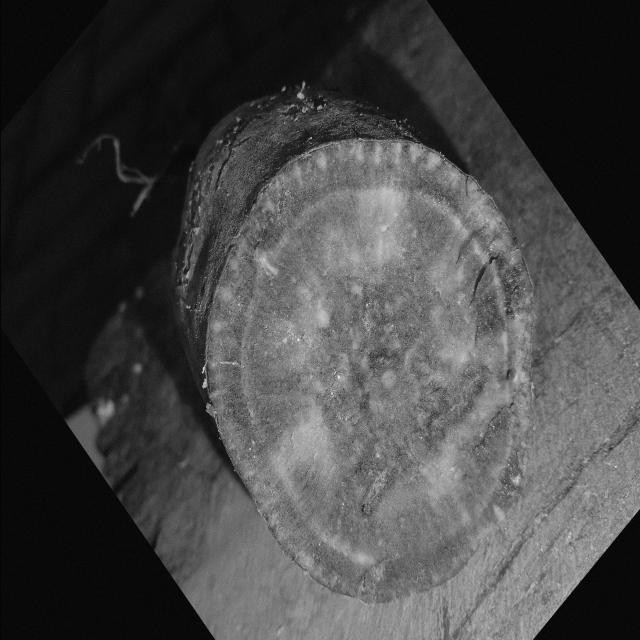Sick Sweet Potato_Tuber Rot: (206, 140, 531, 602)
